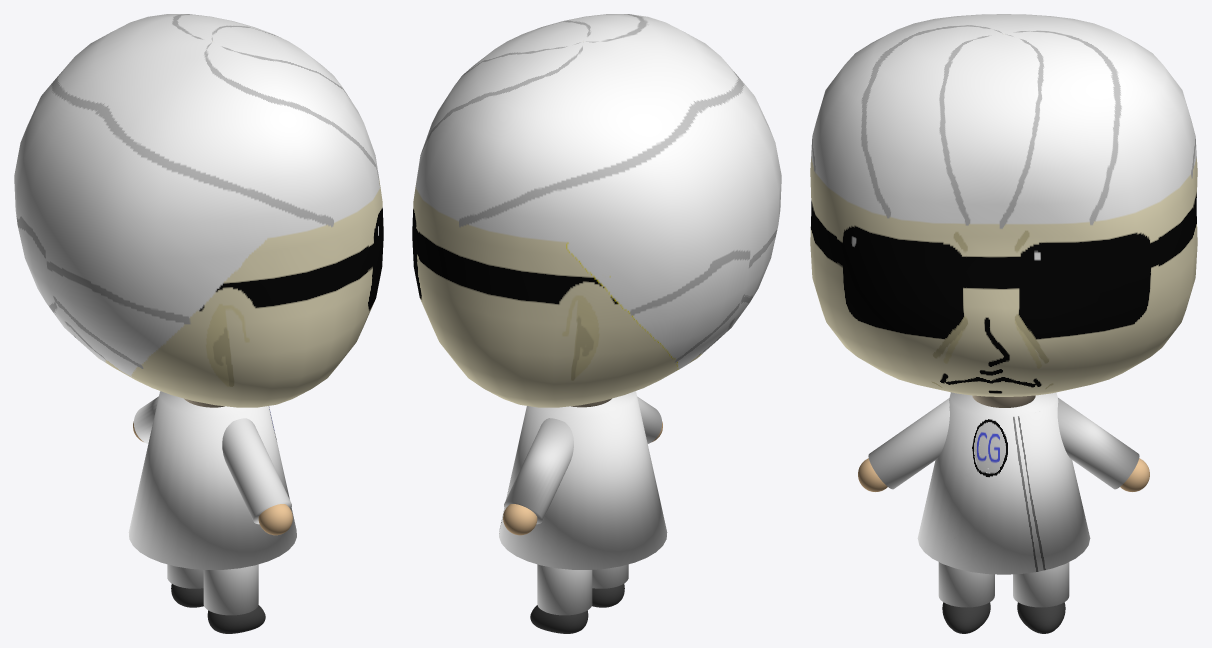
The model's file is professor_moving.glb.
The picture shows the model from 3 angles, left to right: view 1: azimuth 30°, elevation 25°; view 2: azimuth 150°, elevation 25°; view 3: azimuth 270°, elevation 25°; orthographic projection. The views are drawn at different scales.
Visible parts, largest first — view 1: 구체, 실린더.001, 실린더.003, 실린더.002, 구체.002, 구체.001; view 2: 구체, 실린더.001, 실린더.003, 실린더.002, 구체.002, 구체.001; view 3: 구체, 실린더.001, 실린더.003, 실린더.002, 구체.002, 구체.001, 실린더.
Part boxes in pixels (left/top/right/bottom): 구체: left=14, top=14, right=383, bottom=407; 실린더.001: left=128, top=391, right=296, bottom=569; 실린더.003: left=133, top=396, right=291, bottom=524; 실린더.002: left=167, top=564, right=258, bottom=615; 구체.002: left=171, top=584, right=265, bottom=633; 구체.001: left=133, top=421, right=292, bottom=535; 구체: left=412, top=14, right=781, bottom=407; 실린더.001: left=499, top=391, right=667, bottom=569; 실린더.003: left=504, top=396, right=662, bottom=524; 실린더.002: left=537, top=564, right=628, bottom=615; 구체.002: left=530, top=584, right=624, bottom=633; 구체.001: left=503, top=421, right=662, bottom=535; 구체: left=810, top=14, right=1197, bottom=396; 실린더.001: left=917, top=392, right=1090, bottom=574; 실린더.003: left=868, top=398, right=1139, bottom=489; 실린더.002: left=938, top=562, right=1069, bottom=607; 구체.002: left=942, top=602, right=1065, bottom=633; 구체.001: left=858, top=458, right=1149, bottom=491; 실린더: left=972, top=395, right=1035, bottom=407.
Size of the model in its own units: 3.3 by 5.91 by 3.53.
Materials: 7 (2 with a texture image).
